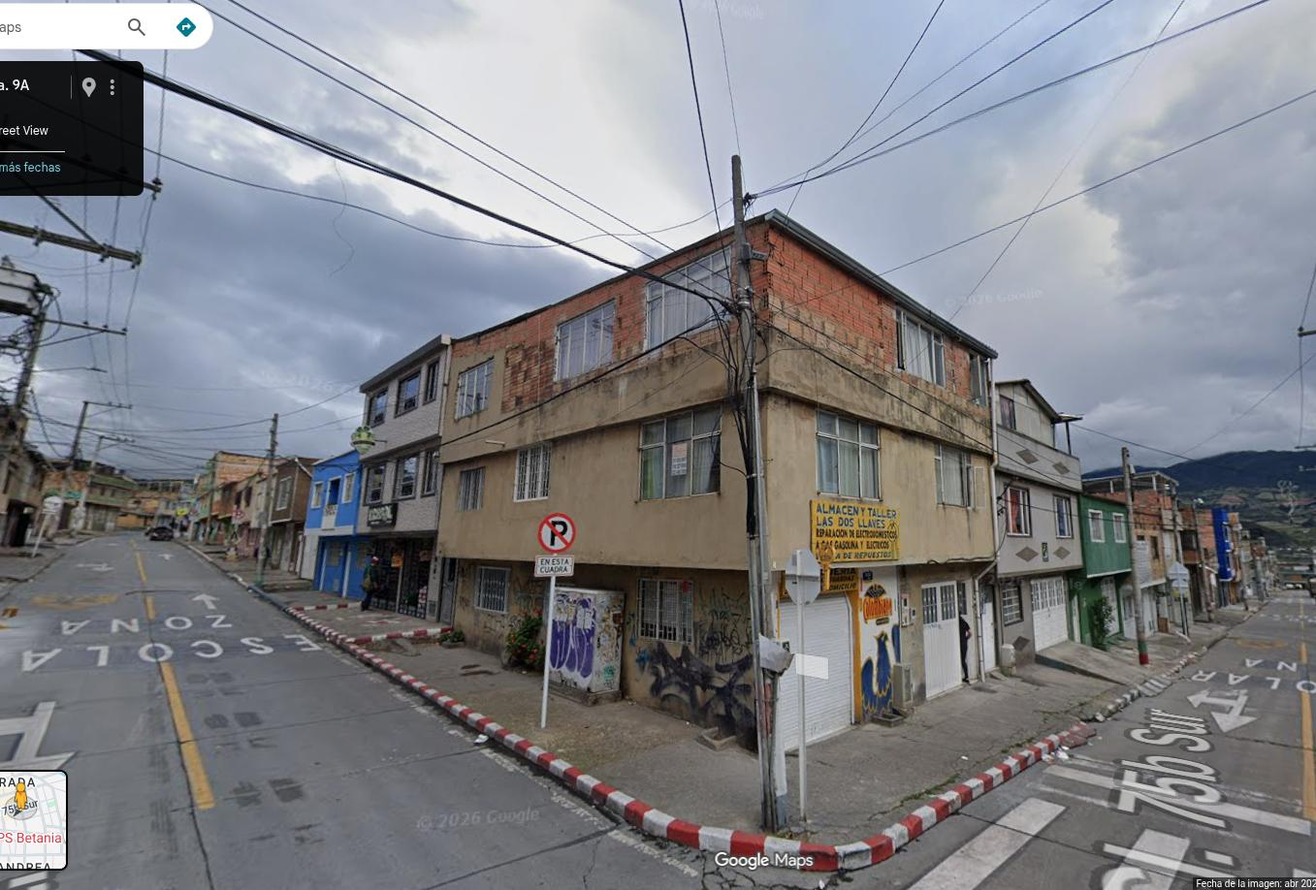casa: (434, 211, 1004, 750), (321, 334, 454, 615), (985, 379, 1088, 660), (1066, 494, 1134, 648)
poste: (732, 155, 786, 830), (1121, 447, 1149, 666), (66, 400, 131, 475), (16, 288, 47, 412)
